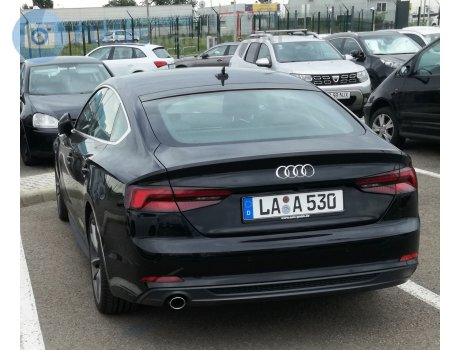License Plates: (253, 198, 343, 208)
